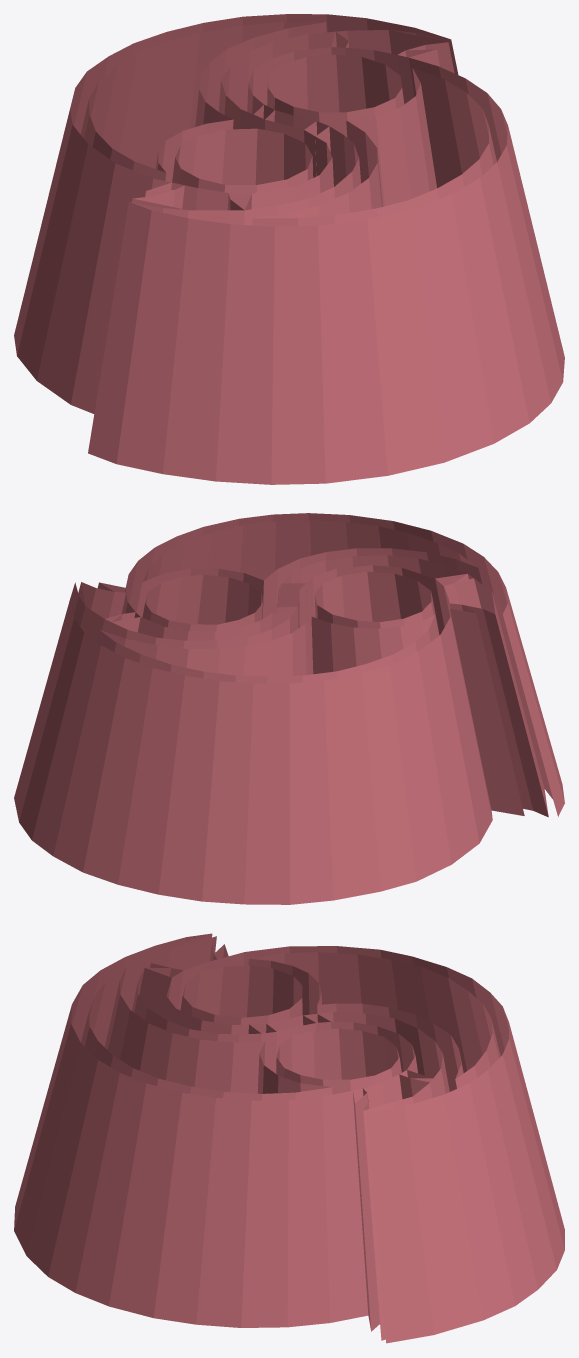
Rendered from rays.obj.
The picture shows the model from 3 angles, top to bottom: view 1: azimuth 30°, elevation 25°; view 2: azimuth 150°, elevation 25°; view 3: azimuth 270°, elevation 25°; orthographic projection. The views are drawn at different scales.
Bounding box in the file's own units: 11.66 × 5 × 12.04.
1 material, 1 textured.
